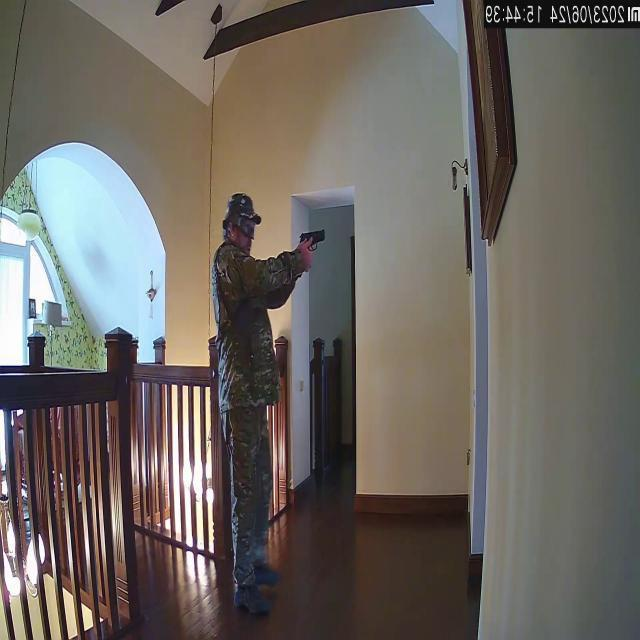pistol: (298, 224, 326, 260)
